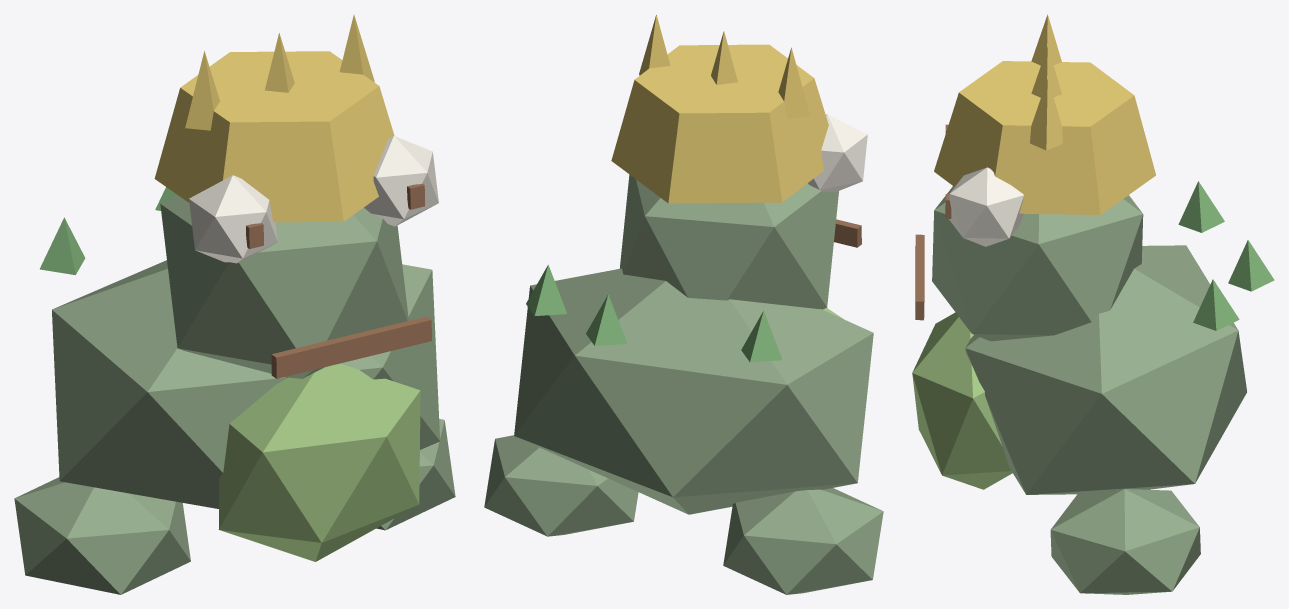
The model's file is npcpose_toad_king_attack_01.glb.
The picture shows the model from 3 angles, left to right: view 1: azimuth 30°, elevation 25°; view 2: azimuth 150°, elevation 25°; view 3: azimuth 270°, elevation 25°; orthographic projection. The views are drawn at different scales.
Parts seen in each view (by area): view 1: npcpose; view 2: npcpose; view 3: npcpose.
Boxes of the visible parts, box(x1,y1,x2,y2) form: npcpose: box(14, 14, 455, 594); npcpose: box(484, 14, 883, 594); npcpose: box(912, 14, 1274, 594).
Size of the model in its own units: 1.75 by 2.23 by 1.49.
